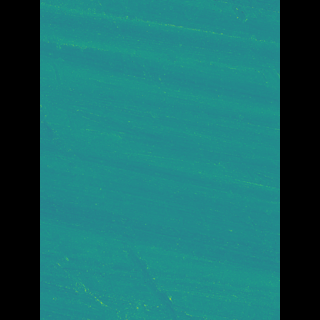Loch: (75, 36, 176, 320)
